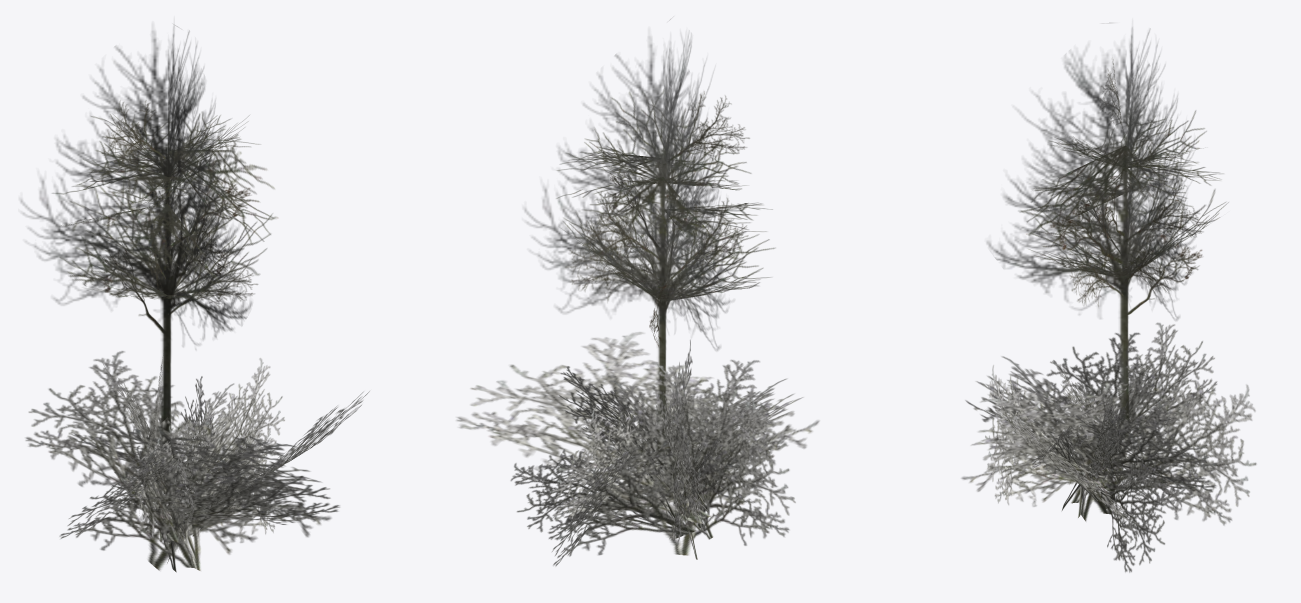
Rendered from wtree_b.glb.
The picture shows the model from 3 angles, left to right: view 1: azimuth 30°, elevation 25°; view 2: azimuth 150°, elevation 25°; view 3: azimuth 270°, elevation 25°; orthographic projection. The views are drawn at different scales.
Parts seen in each view (by area): view 1: Winter_Trees_Branches.006, Winter_Trees_Planes.004, Winter_Trees_Branches.015; view 2: Winter_Trees_Branches.006, Winter_Trees_Planes.004, Winter_Trees_Branches.015; view 3: Winter_Trees_Branches.006, Winter_Trees_Planes.004, Winter_Trees_Branches.015.
Boxes of the visible parts, bbox=[...] form: Winter_Trees_Branches.006: bbox=[25, 351, 369, 572]; Winter_Trees_Planes.004: bbox=[20, 24, 251, 444]; Winter_Trees_Branches.015: bbox=[52, 100, 277, 332]; Winter_Trees_Branches.006: bbox=[456, 332, 819, 565]; Winter_Trees_Planes.004: bbox=[524, 19, 736, 454]; Winter_Trees_Branches.015: bbox=[556, 89, 774, 346]; Winter_Trees_Branches.006: bbox=[961, 322, 1256, 572]; Winter_Trees_Planes.004: bbox=[987, 27, 1195, 419]; Winter_Trees_Branches.015: bbox=[1019, 59, 1228, 314].
Bounding box in the file's own units: 6.23 × 9.96 × 6.61.
Materials: 2 (2 with a texture image).
